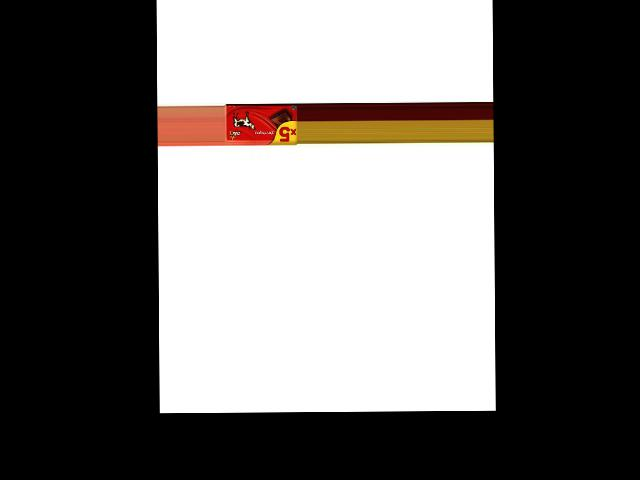chocolate: (223, 103, 297, 147)
